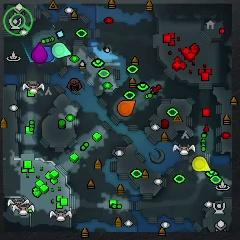p1: (42, 45, 54, 60)
p2: (51, 42, 71, 59)
p3: (31, 43, 46, 62)
p4: (193, 156, 209, 172)
p5: (117, 100, 135, 116)
